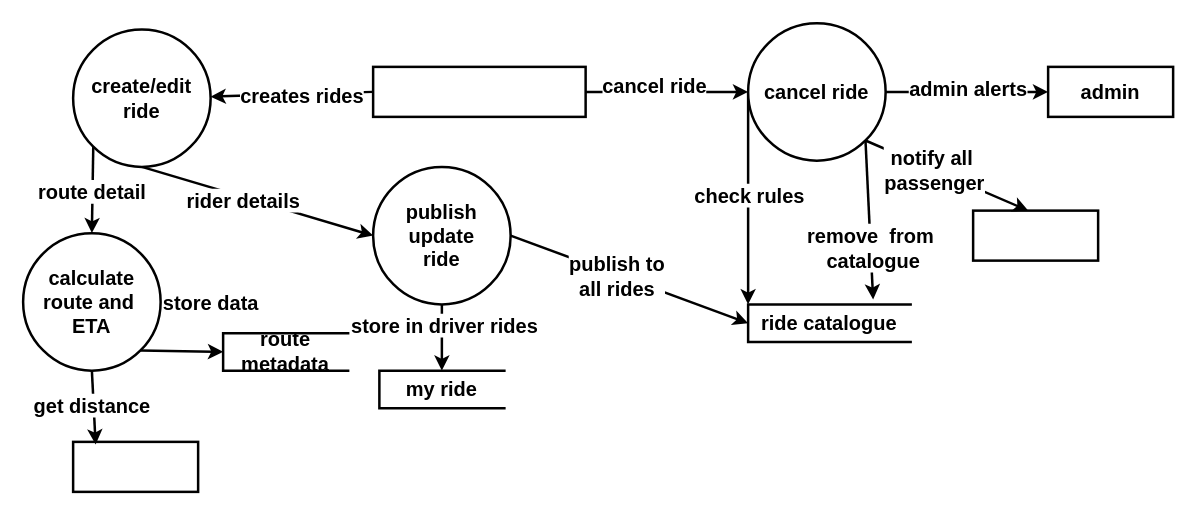
The diagram is 1195 pixels wide and 514 high, and some of its shapes have lost their labels. Each missing label, with the centre of its shape:
"driver" goes at point 478,91.
"map service" goes at point 135,466.
"notification service" goes at point 1035,235.
